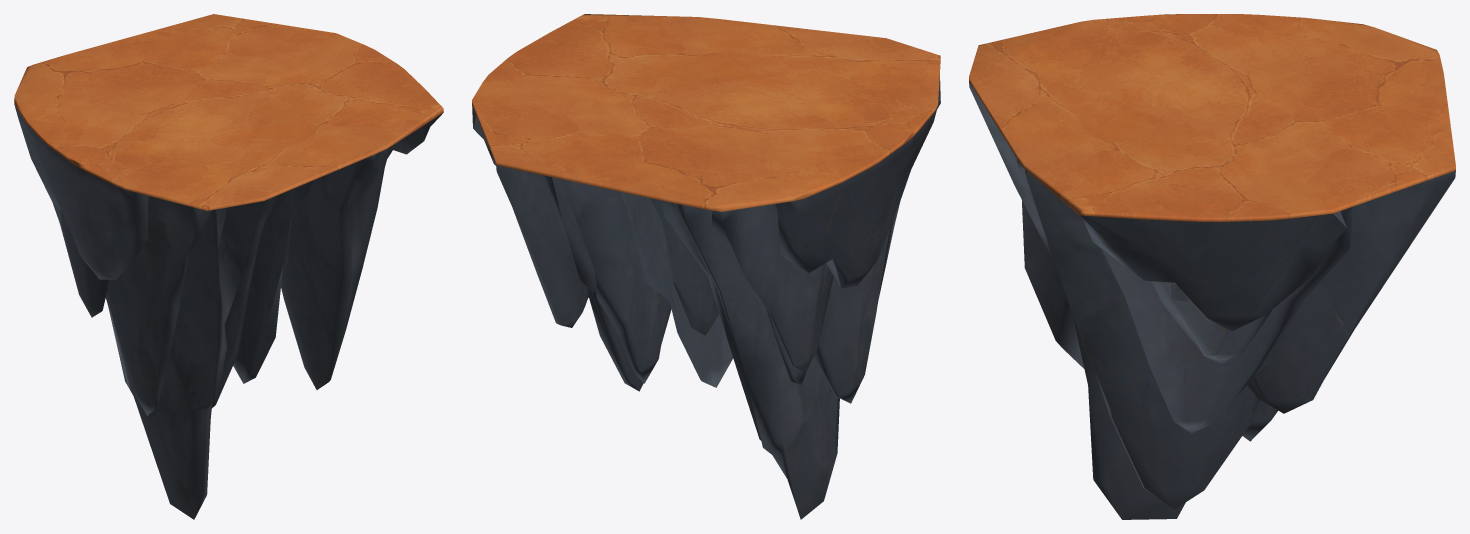
The model's file is nightridge.glb.
3 views of the same model, side by side, from view 1: azimuth 30°, elevation 25°; view 2: azimuth 150°, elevation 25°; view 3: azimuth 270°, elevation 25° (orthographic). The views are drawn at different scales.
Parts seen in each view (by area): view 1: nightridge; view 2: nightridge; view 3: nightridge.
Part boxes in pixels (x1,y1,x2,y2): nightridge: (14,14,443,519); nightridge: (472,14,940,519); nightridge: (969,14,1455,519).
Size of the model in its own units: 0.9726 by 1 by 0.9859.
Materials: 1 (1 with a texture image).
